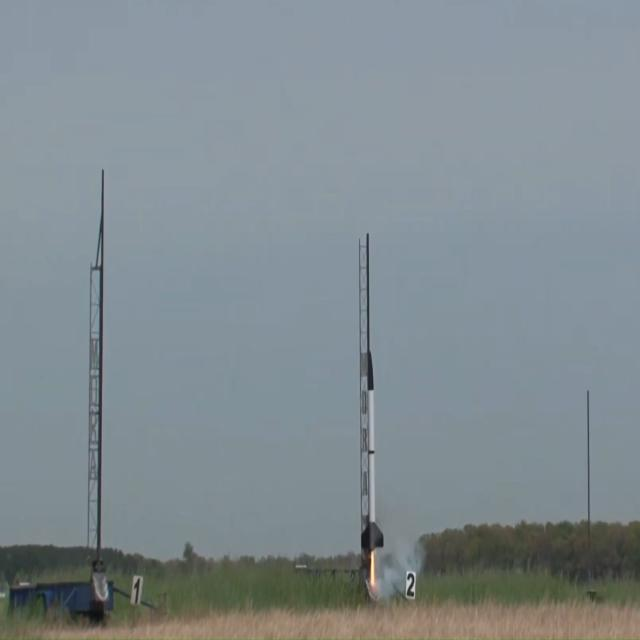Rocket: (360, 350, 384, 553)
